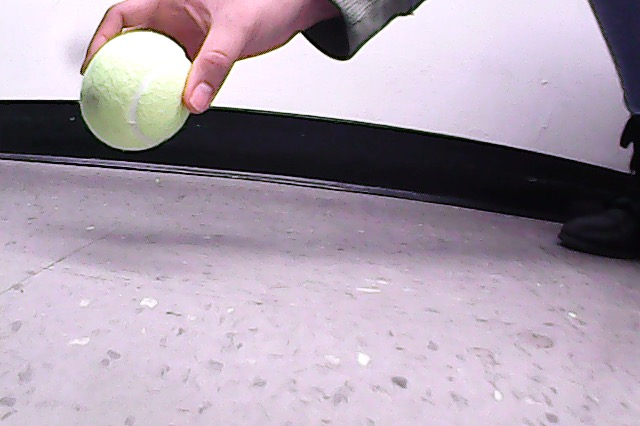ball: (80, 31, 196, 152)
